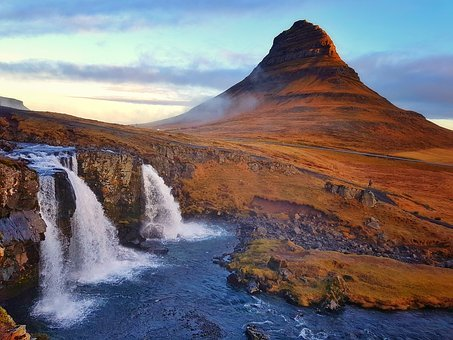mountain: (125, 26, 450, 310)
sky: (1, 4, 245, 118)
waterfall: (19, 150, 224, 328)
